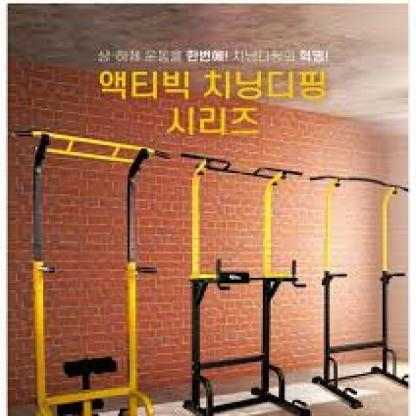chinning dipping: (9, 126, 172, 416), (176, 149, 311, 416), (310, 174, 408, 408)
